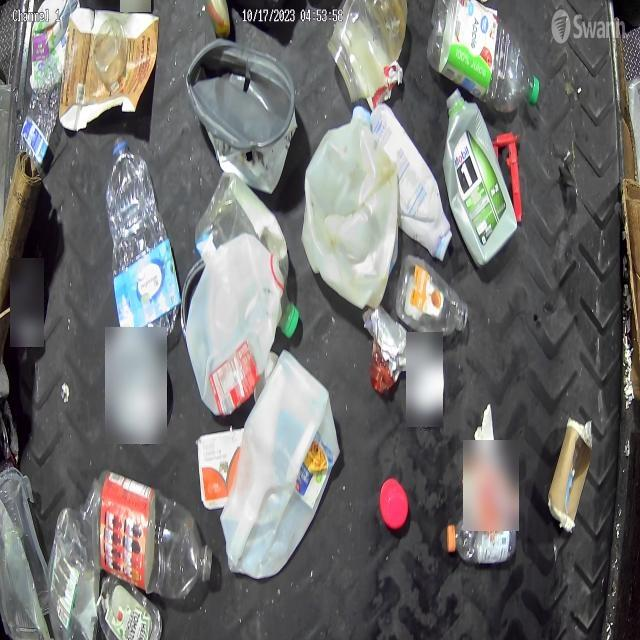milk_jug: (222, 350, 340, 580), (304, 104, 401, 310), (185, 233, 285, 417)
non_white_jug: (443, 88, 516, 264)
plastic_bottle: (90, 468, 213, 598), (106, 134, 181, 338), (428, 0, 542, 110), (396, 252, 472, 342), (48, 501, 98, 633), (446, 516, 518, 568)
